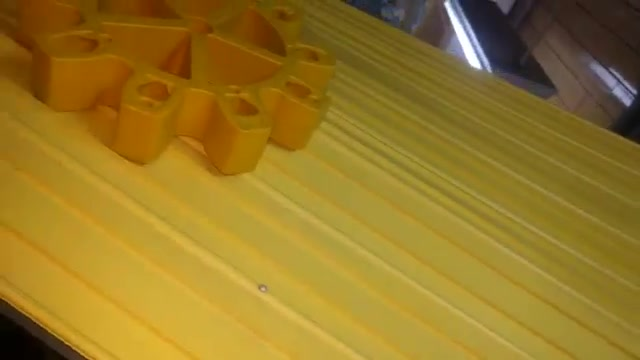gear: (1, 1, 342, 207)
